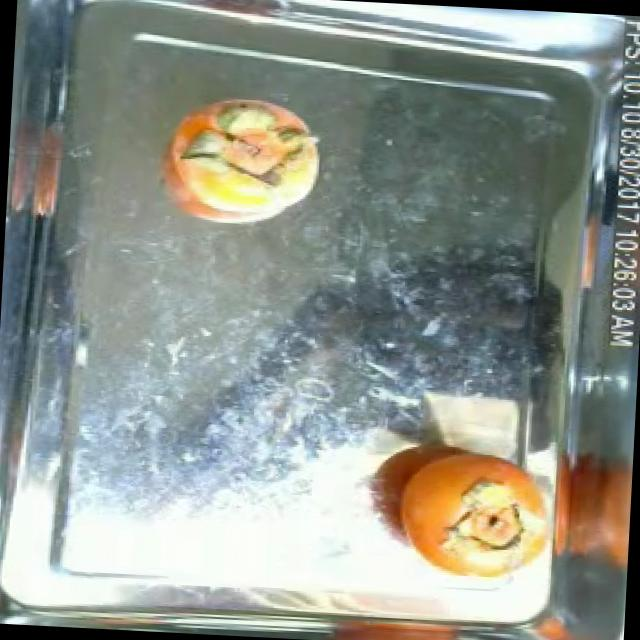Fruit: (156, 86, 334, 232), (550, 436, 634, 586)
